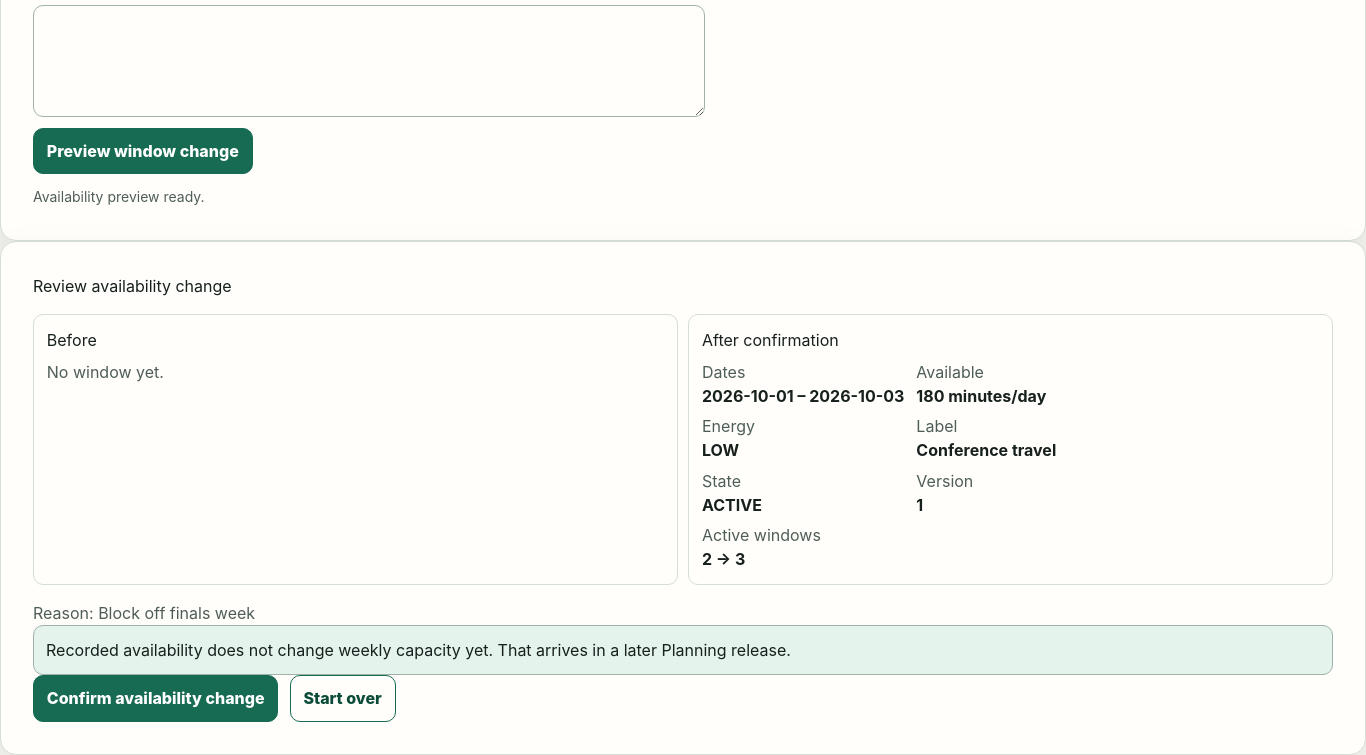
Scenario: AvailabilityWindows › dismisses the confirmation without applying when Start over is clicked
The width and height of the screenshot is (1366, 755).
(page scrolled)
Expected: the button "Confirm availability change" is shown, top-left (33, 675), bottom-right (278, 722)
Click the button "Start over": (343, 698) top-left (290, 675), bottom-right (396, 722)
(page scrolled)
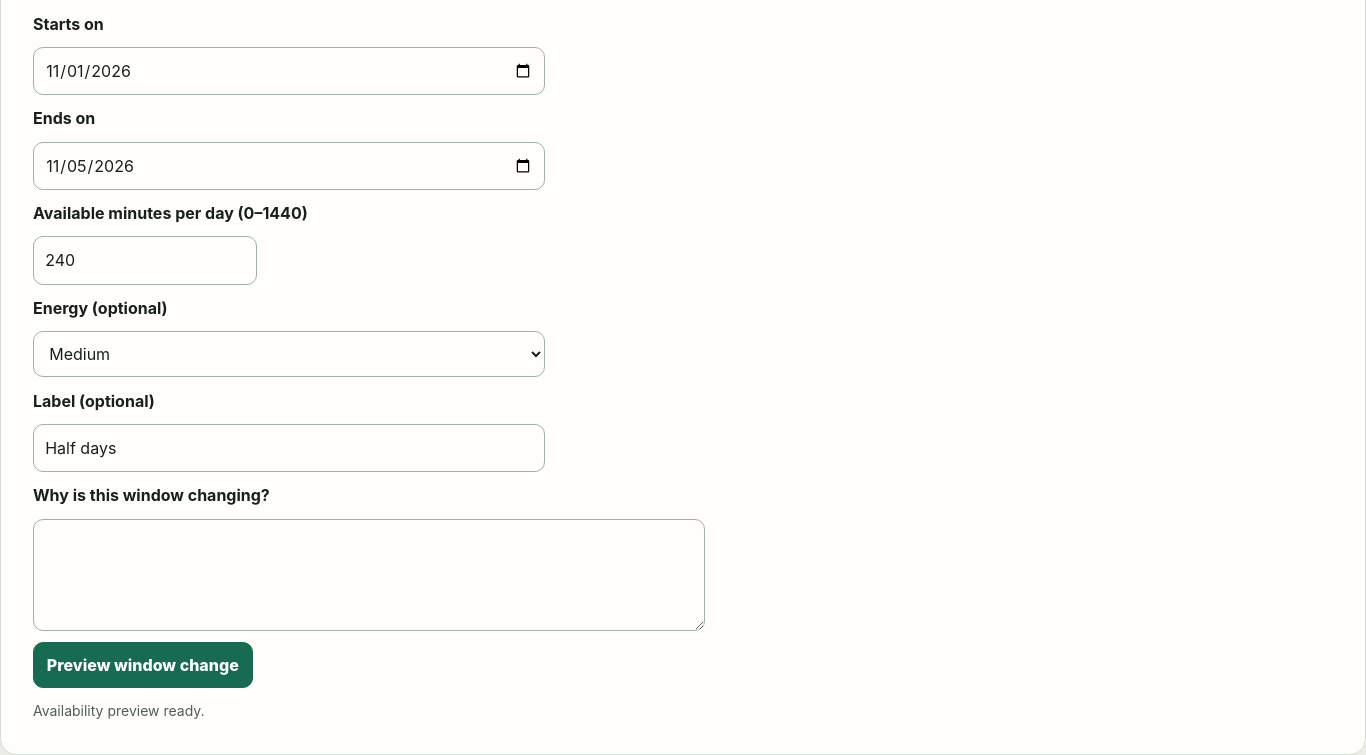
Expected: the button "Confirm availability change" is gone
